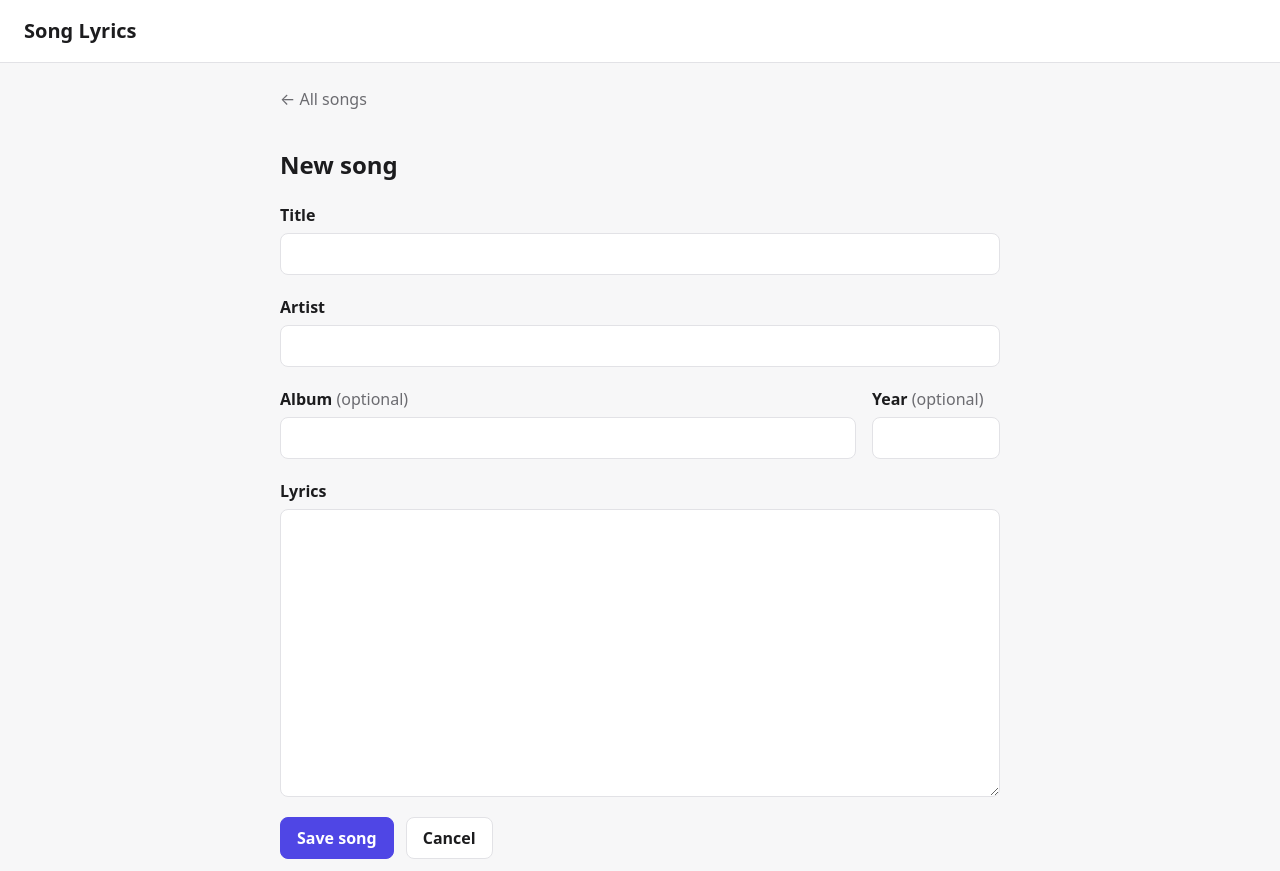
Test: SongFormPage — create › clears a field error as soon as the field is edited
Click the button "Save song" at (337, 838), box [280,817,394,859]
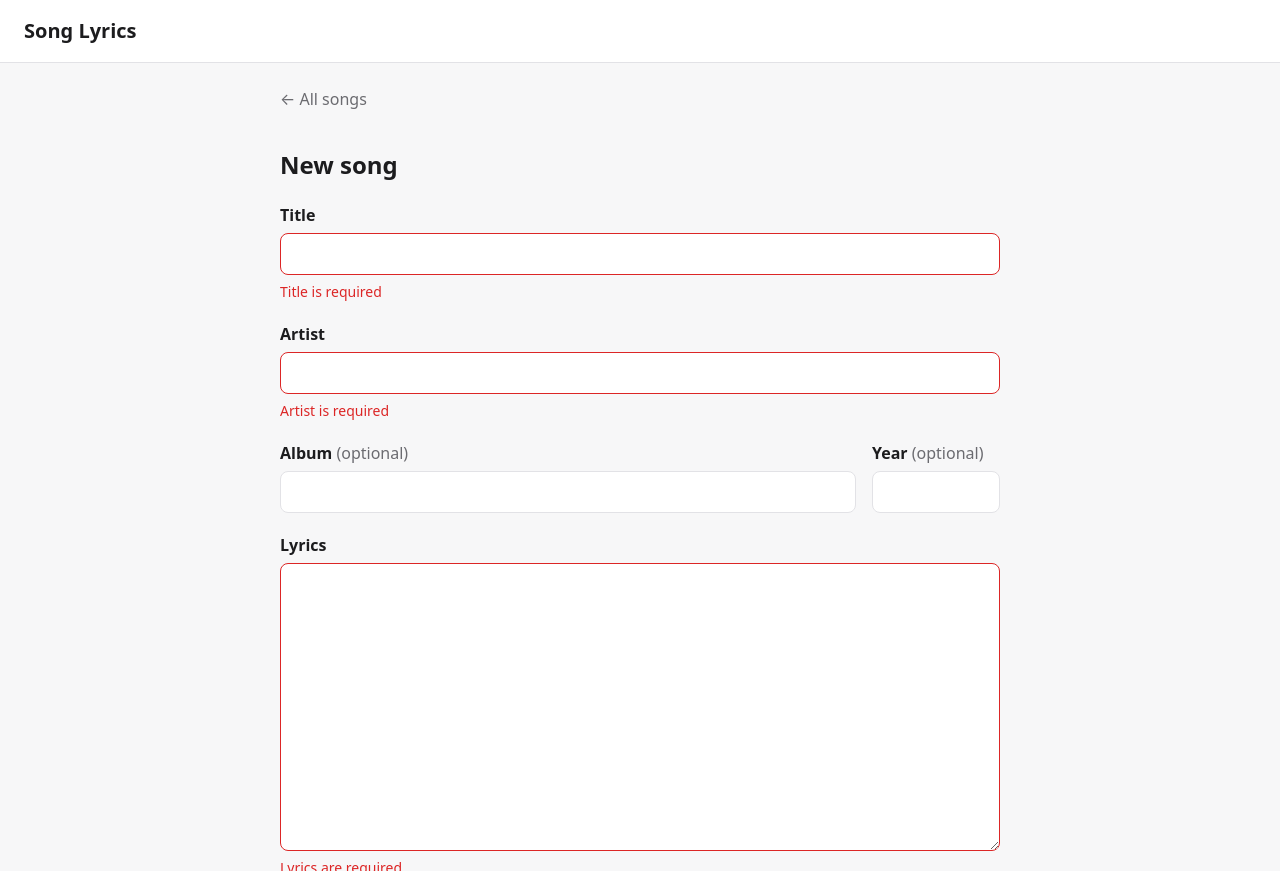
Result: the text "Title is required" is shown at [280,282,382,301]
Type "Sample" into the field labelled "Title" at (640, 254), box [280,233,1000,275]
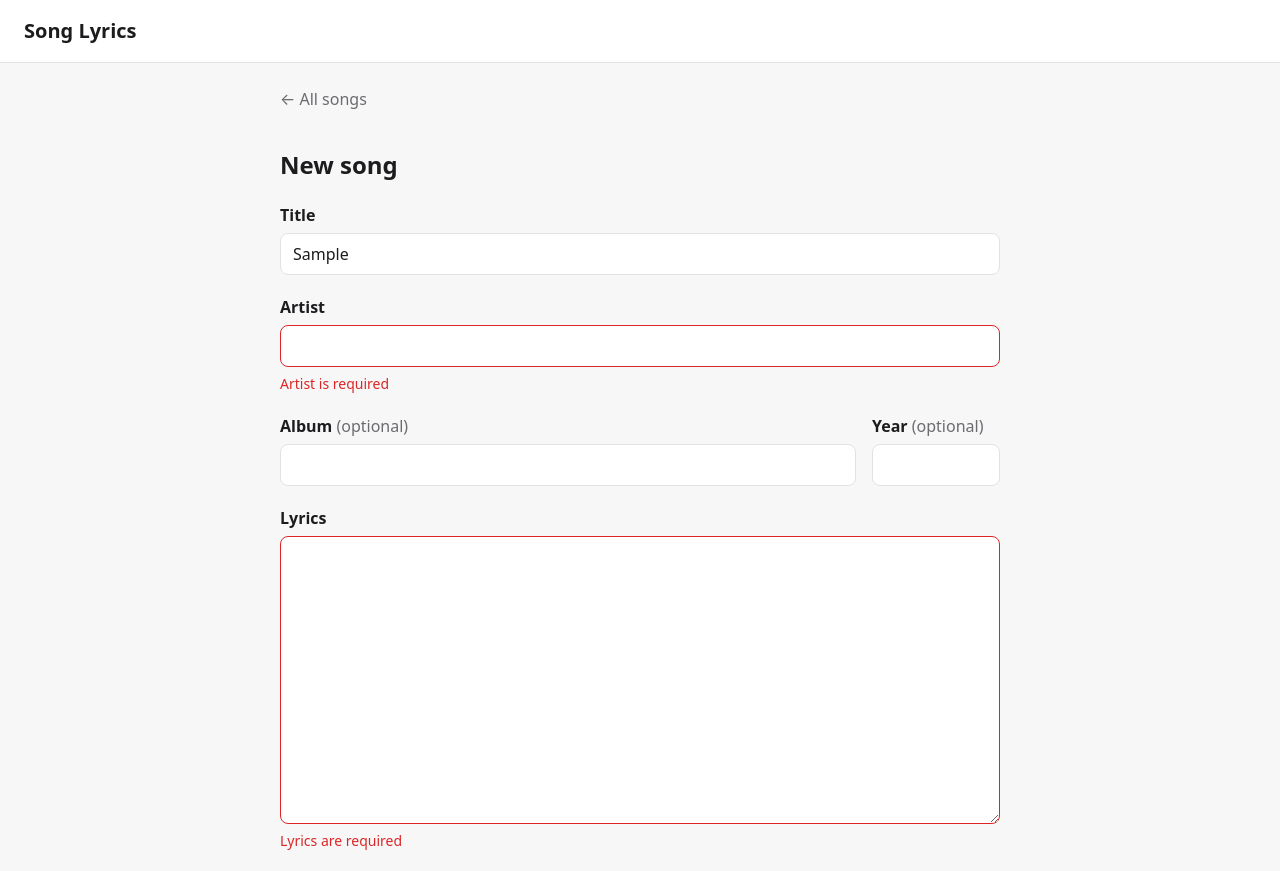
Result: the text "Title is required" is gone
